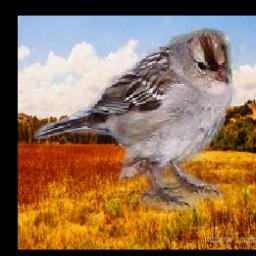Sparrow: (34, 29, 240, 211)
